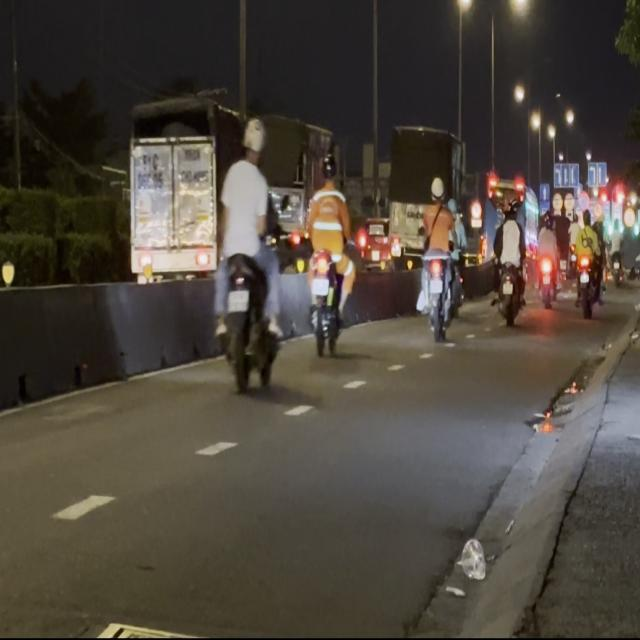helmet: (241, 116, 265, 162)
licenseplate: (211, 115, 283, 392)
nohelmet: (227, 288, 248, 310)
